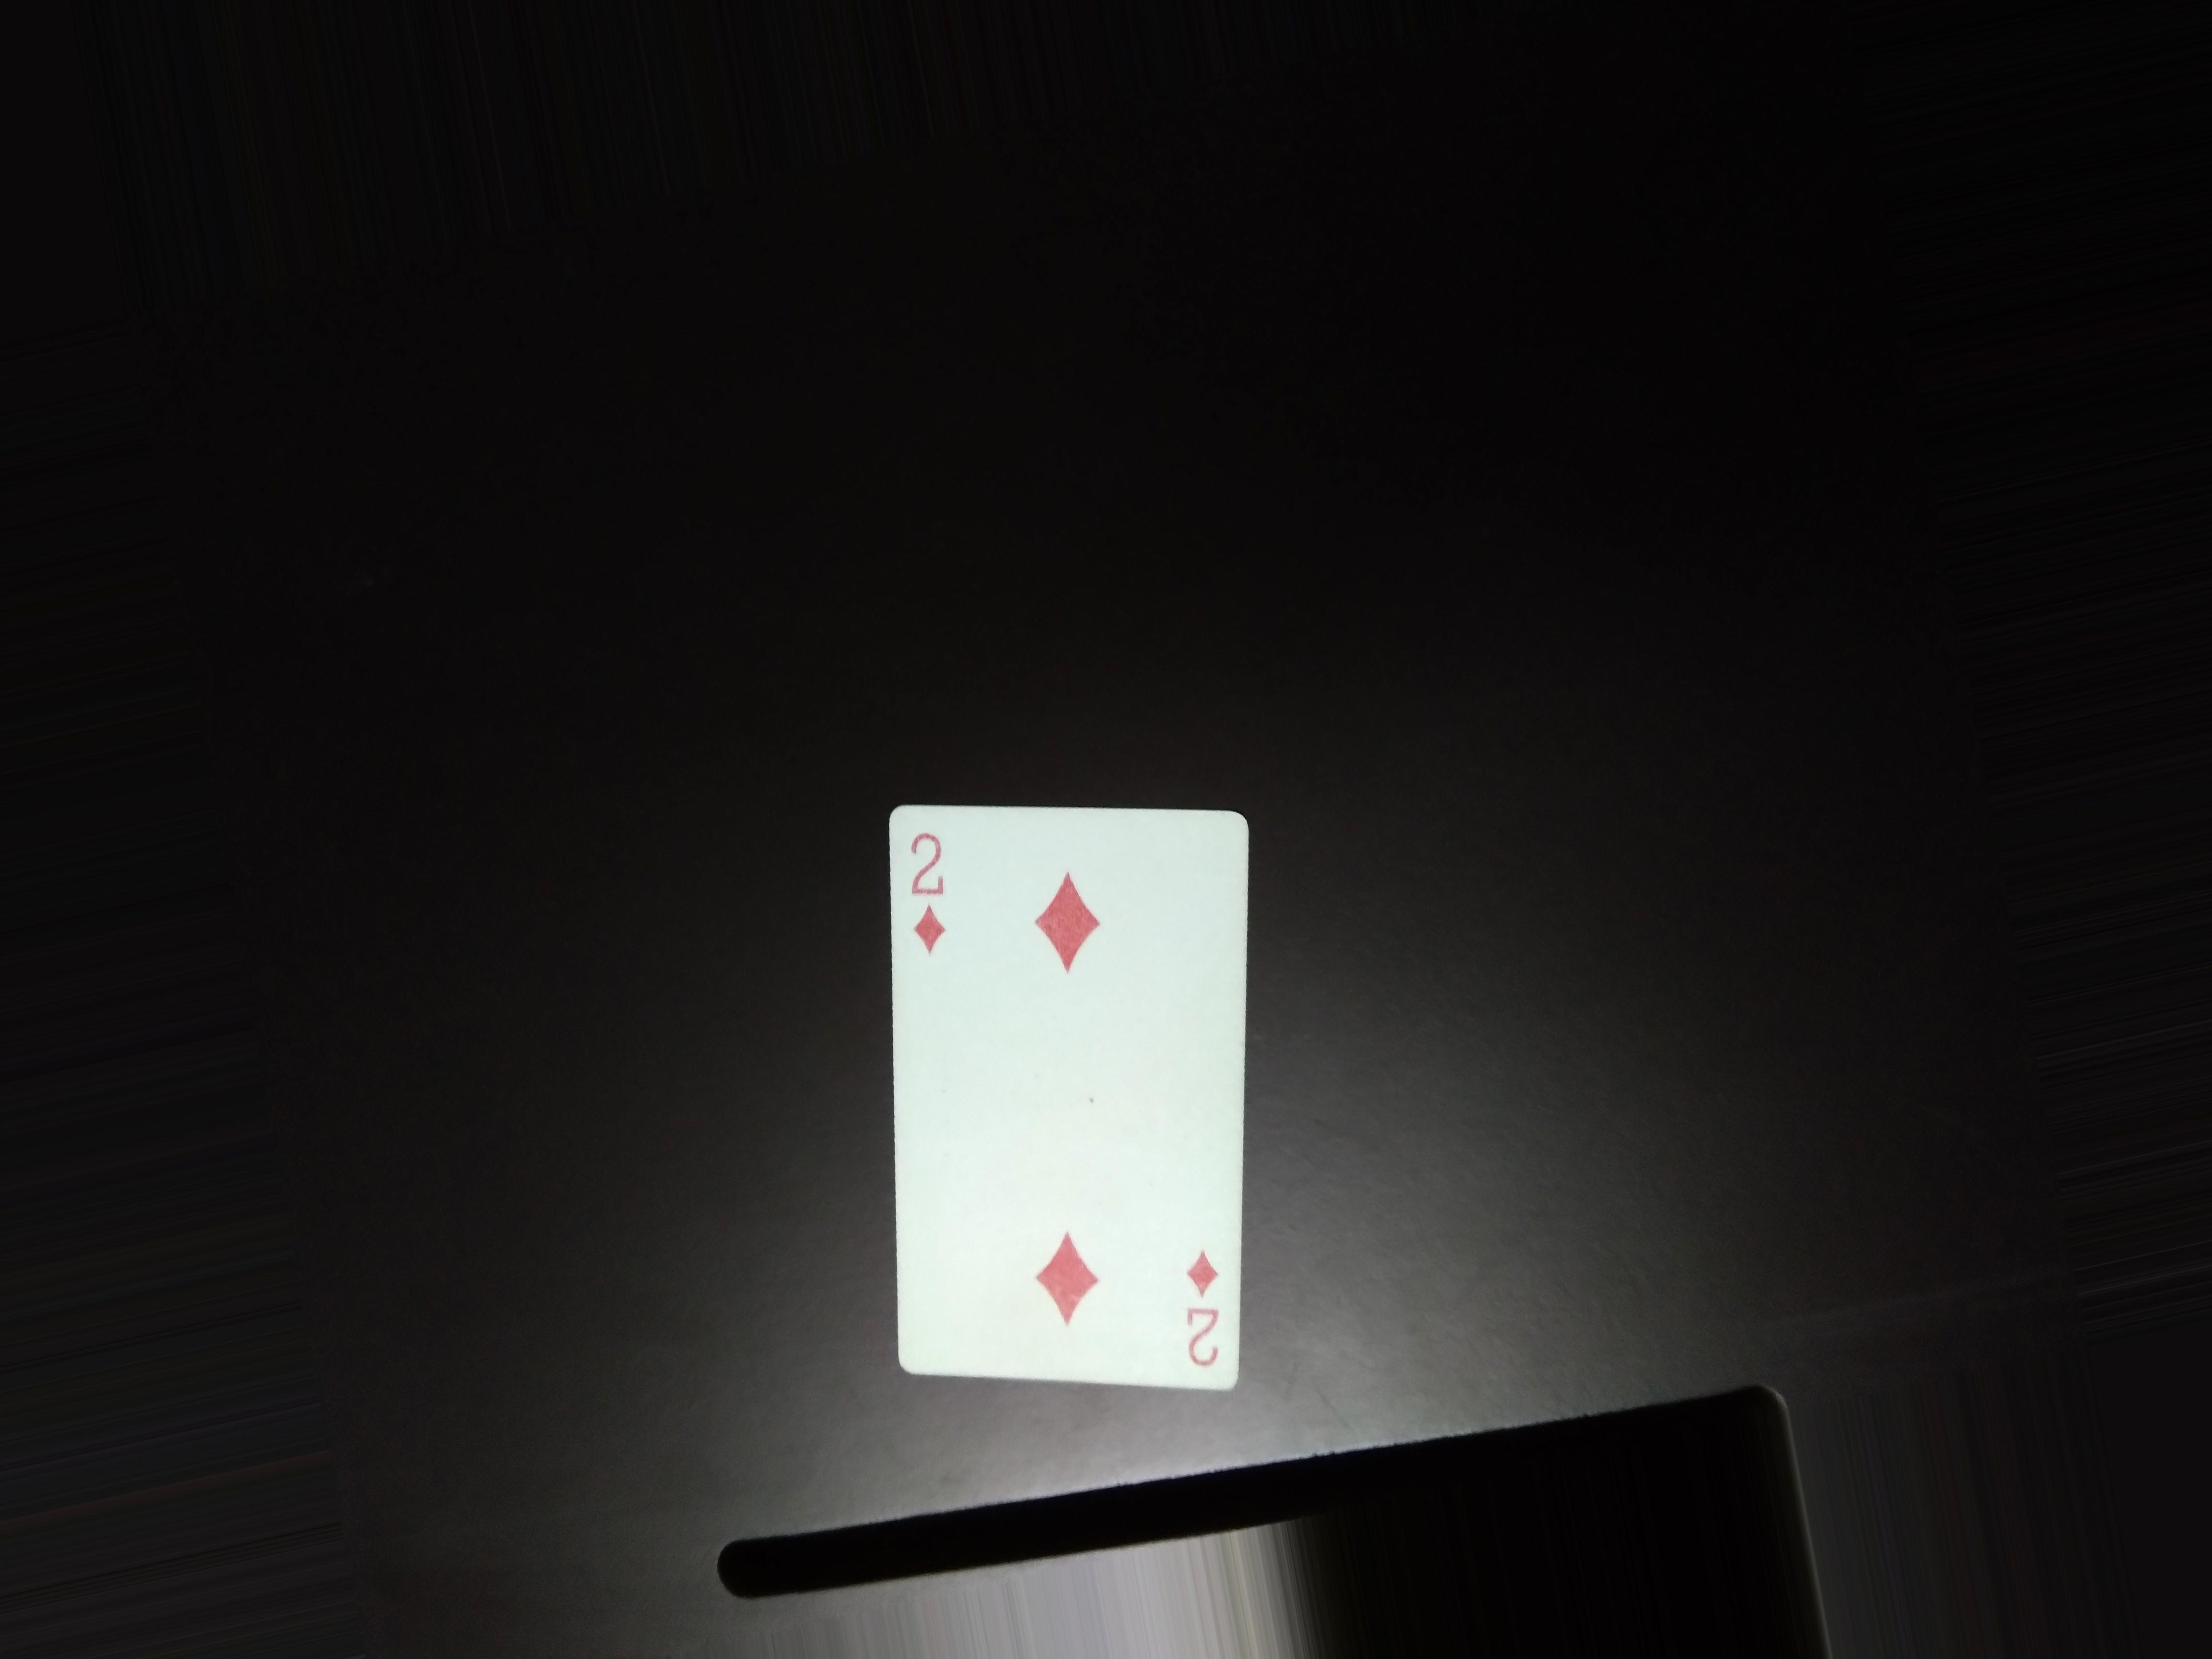2D: (902, 828, 970, 964)
